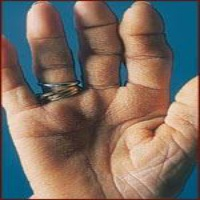ring: (20, 1, 82, 101)
